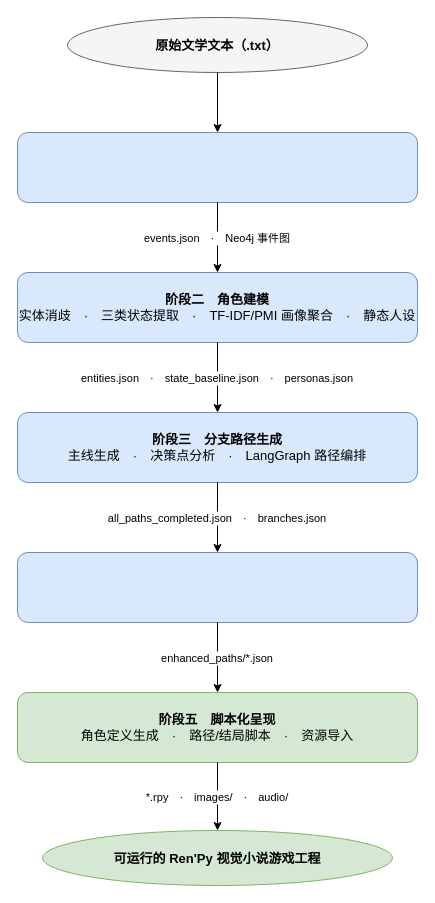
The diagram is 435 pixels wide and 903 high, and some of its shapes have lost their labels. The centre of each missing label's shape, as x and y in pixels:
阶段一 事件图谱构建 事件提取（并发异步） · 关系提取 · Neo4j 导入: the point at 217,167
阶段四 叙事扩写 场景描述生成 · 对话生成 · 风格约束 · 分段缓存: the point at 217,587
